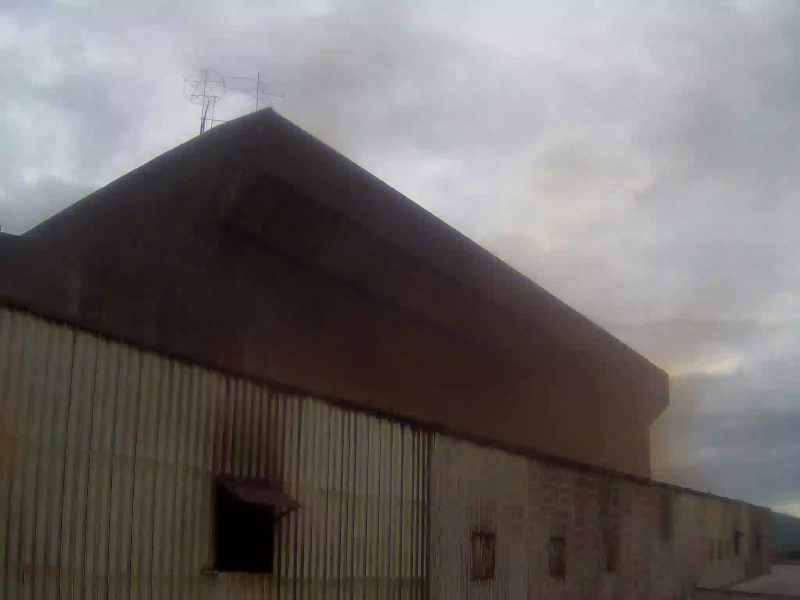bom: (6, 8, 273, 158)
ruim: (267, 41, 713, 499)
